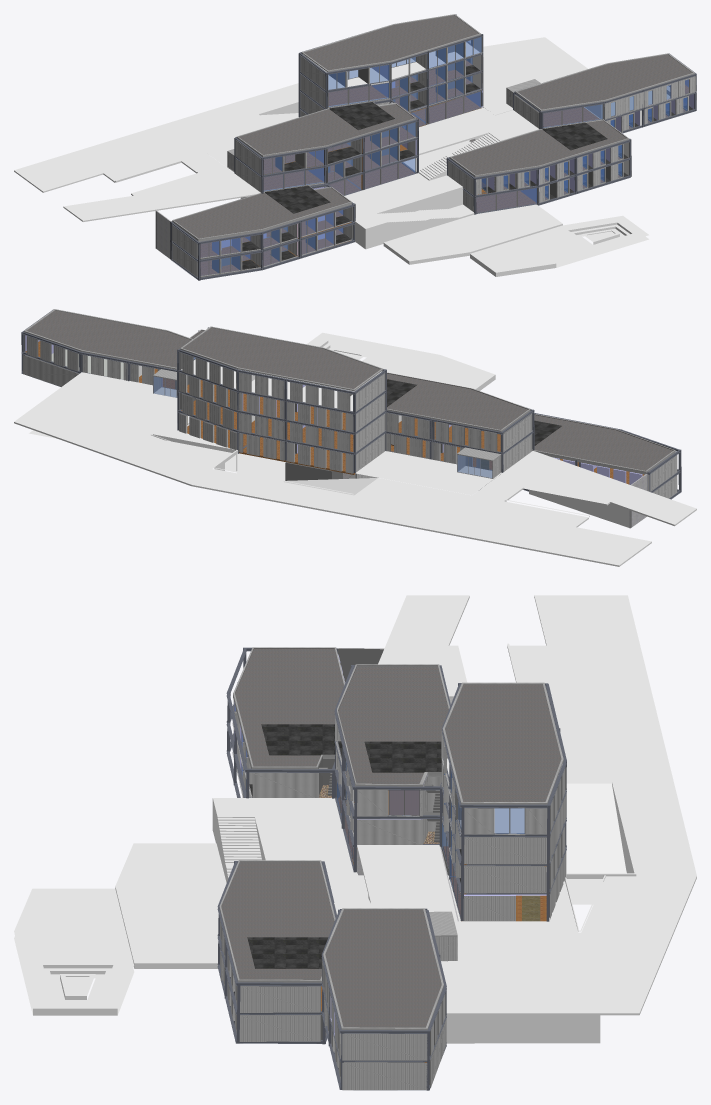
The model's file is GLB03.glb.
3 renders of one model, top to bottom at view 1: azimuth 30°, elevation 25°; view 2: azimuth 150°, elevation 25°; view 3: azimuth 270°, elevation 25°, orthographic. The views are drawn at different scales.
Parts seen in each view (by area): view 1: object 21, Unir, object 12, object 11, object 115, object 157, object 164, object 135, object 136, object 10, object 840, object 297 (+20 smaller); view 2: object 21, object 157, object 164, object 115, object 136, object 12, object 23, object 114, object 435, object 402, object 457, object 404 (+32 smaller); view 3: object 21, object 12, object 157, object 164, object 135, object 11, object 136, object 115, Unir, object 10, object 22, object 168 (+14 smaller).
Boxes of the visible parts, x1,y1,x2,y2 form: object 21: [14, 37, 587, 221]; Unir: [344, 173, 474, 249]; object 12: [470, 215, 648, 276]; object 11: [383, 204, 562, 264]; object 115: [172, 185, 351, 241]; object 157: [301, 14, 481, 72]; object 164: [515, 53, 694, 111]; object 135: [449, 119, 628, 177]; object 136: [236, 102, 416, 156]; object 10: [418, 107, 538, 180]; object 840: [328, 60, 479, 105]; object 297: [328, 42, 481, 89]; object 21: [14, 372, 696, 566]; object 157: [180, 326, 383, 390]; object 164: [24, 309, 194, 369]; object 115: [532, 413, 675, 474]; object 136: [387, 372, 530, 431]; object 12: [307, 332, 495, 390]; object 23: [529, 473, 647, 528]; object 114: [29, 424, 285, 480]; object 435: [286, 442, 353, 473]; object 402: [431, 421, 497, 452]; object 457: [287, 402, 353, 431]; object 404: [290, 422, 350, 451]; object 21: [378, 595, 696, 1015]; object 12: [14, 888, 134, 1015]; object 157: [442, 682, 563, 804]; object 164: [323, 908, 443, 1030]; object 135: [219, 860, 335, 982]; object 11: [115, 843, 226, 968]; object 136: [337, 664, 449, 786]; object 115: [233, 647, 344, 769]; Unir: [212, 798, 353, 882]; object 10: [327, 845, 457, 921]; object 22: [566, 783, 626, 904]; object 168: [446, 1015, 600, 1043].
Bounding box in the file's own units: 106 × 19.82 × 65.94.
23 materials, 14 textured.
